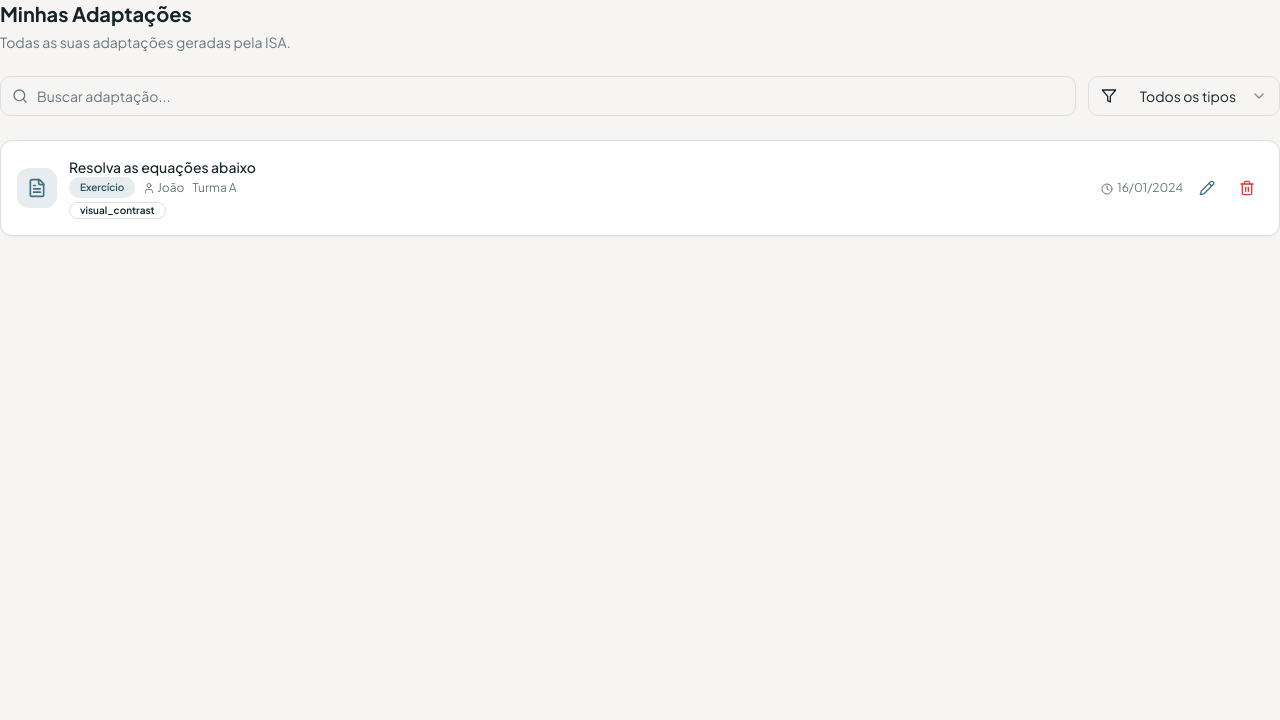
MyAdaptations Page › shows original activity in wizard view
This screenshot has width=1280, height=720.
Click the text "Resolva as equações abaixo" at (162, 167), box [69,157,256,177]
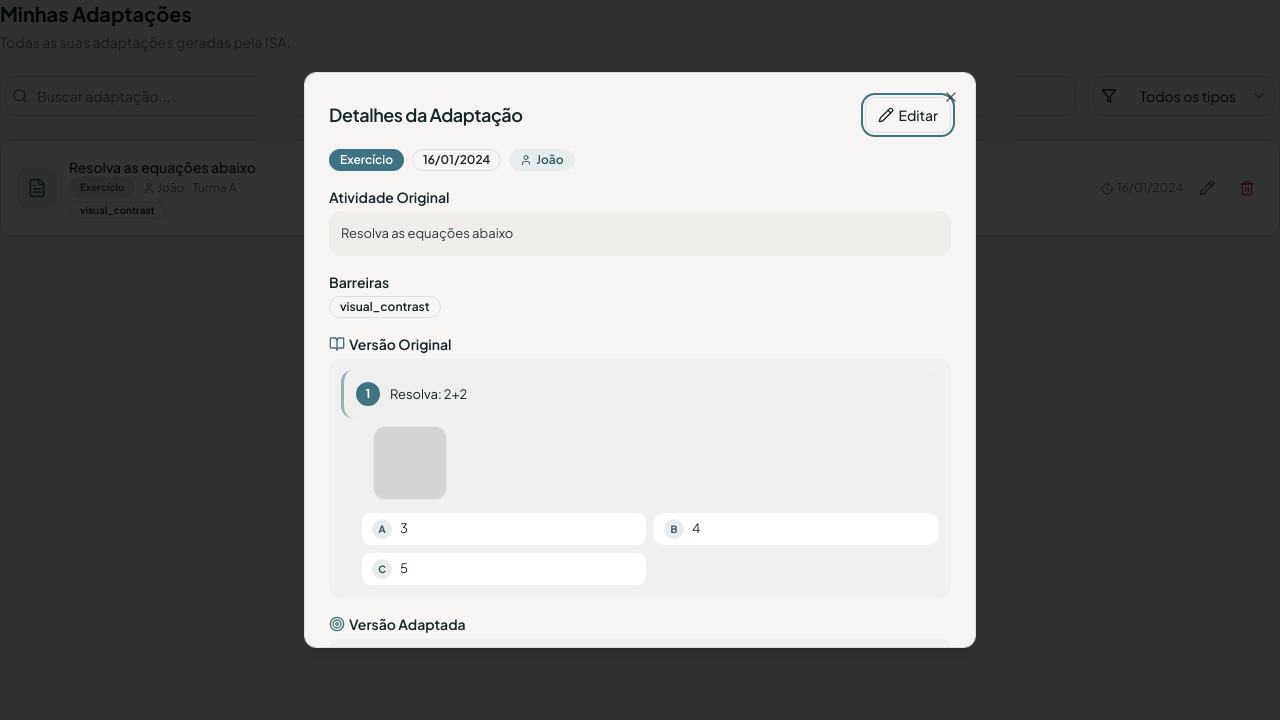
Expected: the heading "Atividade Original" is shown, [329,188,450,206]
